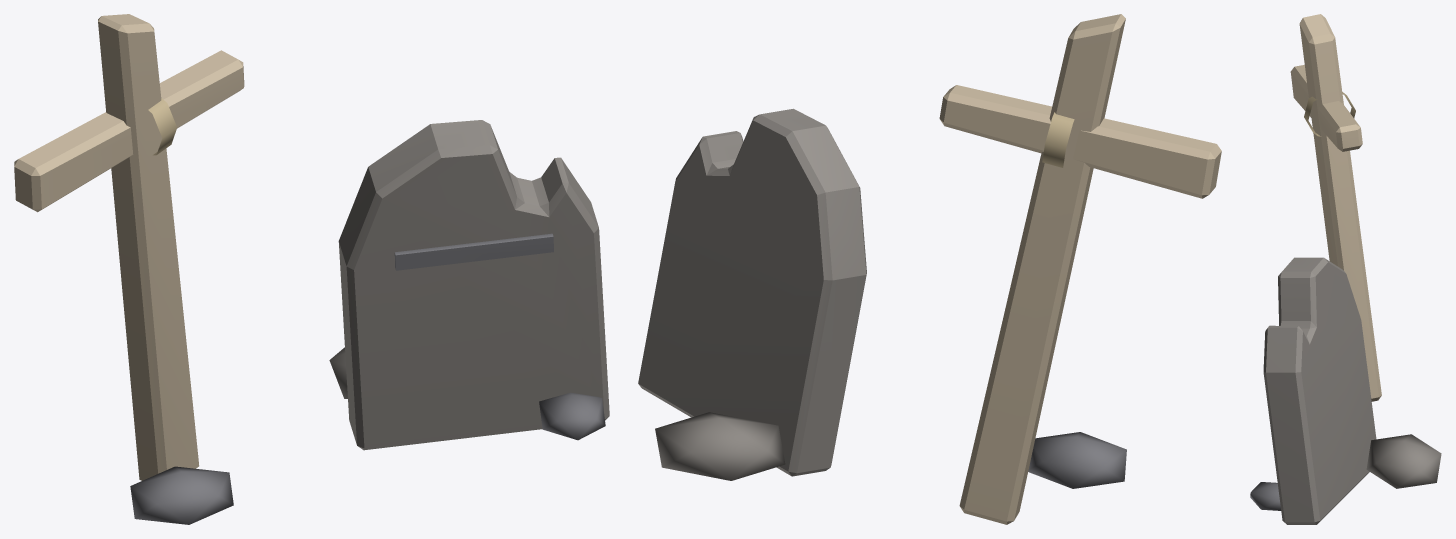
Rendered from grave_marker.ae4843af.glb.
The picture shows the model from 3 angles, left to right: view 1: azimuth 30°, elevation 25°; view 2: azimuth 150°, elevation 25°; view 3: azimuth 270°, elevation 25°; orthographic projection. The views are drawn at different scales.
Visible parts, largest first — view 1: grave_marker; view 2: grave_marker; view 3: grave_marker.
Part boxes in pixels (<box>): grave_marker: <box>14,14,609,524</box>; grave_marker: <box>638,14,1221,524</box>; grave_marker: <box>1250,14,1441,524</box>.
Size of the model in its own units: 1.28 by 1.07 by 0.5166.
